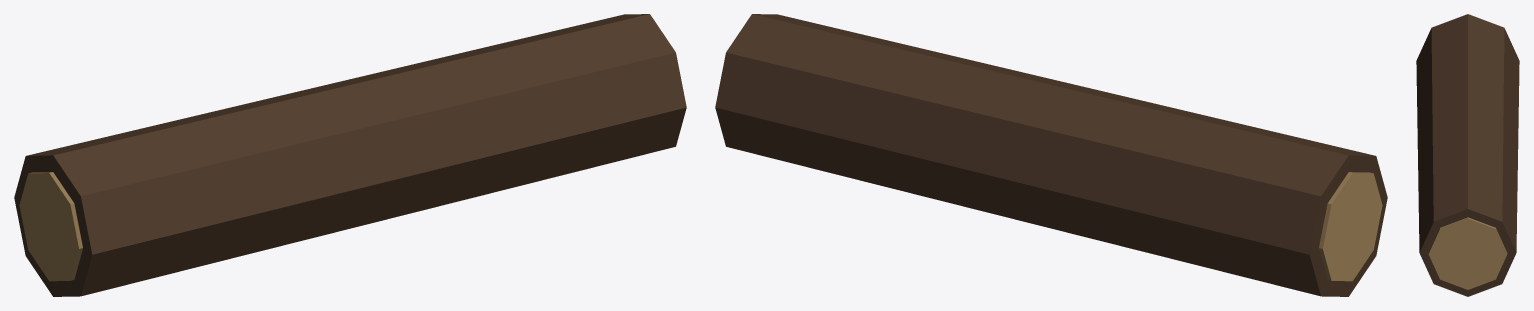
File: Log.fbx
3 views of the same model, side by side, from view 1: azimuth 30°, elevation 25°; view 2: azimuth 150°, elevation 25°; view 3: azimuth 270°, elevation 25° (orthographic). The views are drawn at different scales.
Visible parts, largest first — view 1: Log; view 2: Log; view 3: Log.
Part boxes in pixels (box(x1,y1,x2,y2)): Log: box(14, 14, 686, 296); Log: box(715, 14, 1387, 296); Log: box(1416, 14, 1519, 296).
Bounding box in the file's own units: 1.52 × 0.34 × 0.34.
